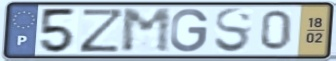0: (258, 9, 296, 53)
5: (36, 6, 82, 55)
G: (168, 7, 211, 54)
M: (120, 6, 173, 55)
S: (212, 6, 254, 55)
Z: (78, 7, 128, 54)
